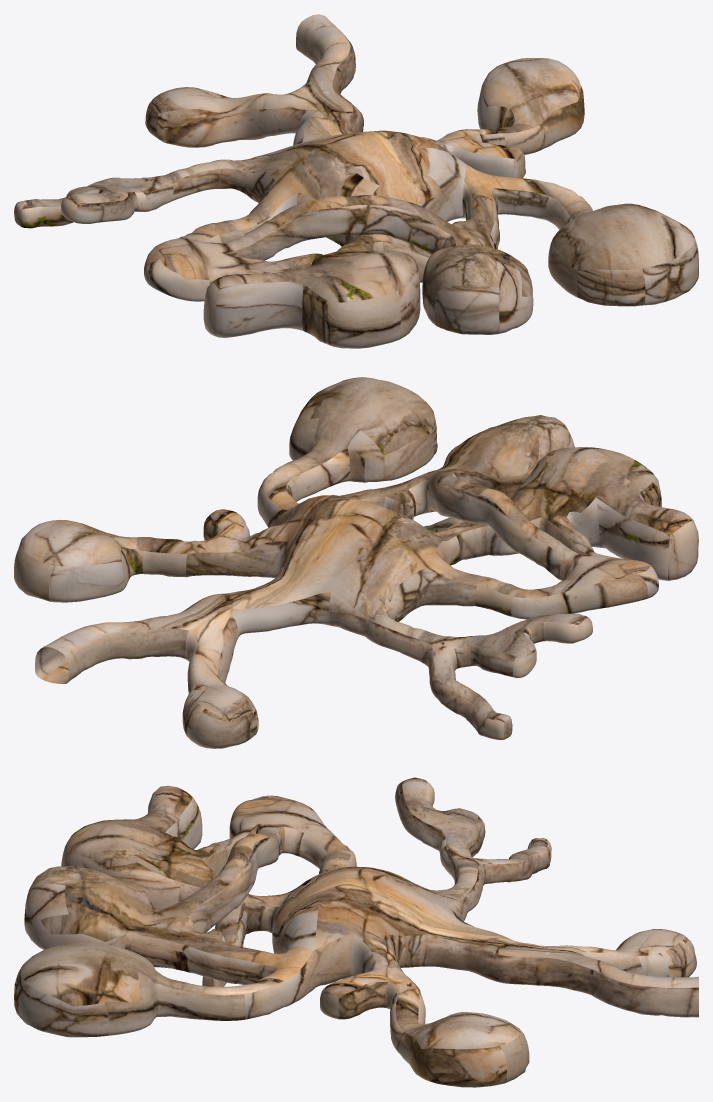
File: Escenario2RetoquesEstaVezSiSiempreSi.fbx
3 views of the same model, one above another, from view 1: azimuth 30°, elevation 25°; view 2: azimuth 150°, elevation 25°; view 3: azimuth 270°, elevation 25° (orthographic). The views are drawn at different scales.
Visible parts, largest first — view 1: Escenario2FINAL; view 2: Escenario2FINAL; view 3: Escenario2FINAL.
Boxes of the visible parts, x1,y1,x2,y2 form: Escenario2FINAL: [14, 14, 698, 348]; Escenario2FINAL: [14, 377, 698, 748]; Escenario2FINAL: [14, 777, 698, 1087].
Size of the model in its own units: 155 by 30.53 by 175.
